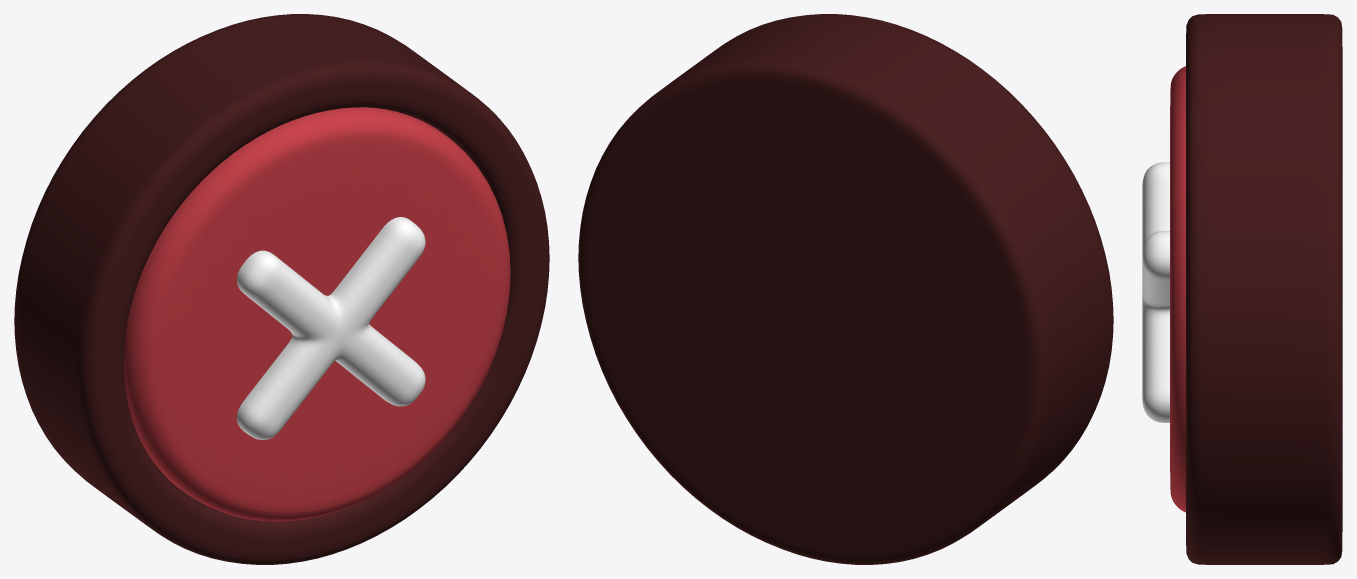
The model's file is denied-animated-3d-icon-744636595222.glb.
The picture shows the model from 3 angles, left to right: view 1: azimuth 30°, elevation 25°; view 2: azimuth 150°, elevation 25°; view 3: azimuth 270°, elevation 25°; orthographic projection.
Visible parts, largest first — view 1: Base .001, Circle.001, Cross Sign; view 2: Base .001; view 3: Base .001, Cross Sign, Circle.001.
Boxes of the visible parts, box(x1,y1,x2,y2) form: Base .001: box(14, 14, 549, 564); Circle.001: box(123, 107, 510, 521); Cross Sign: box(237, 217, 425, 439); Base .001: box(578, 14, 1113, 564); Base .001: box(1186, 14, 1342, 564); Cross Sign: box(1142, 162, 1169, 422); Circle.001: box(1170, 66, 1185, 512).
Bounding box in the file's own units: 1.99 × 1.99 × 0.7223.
